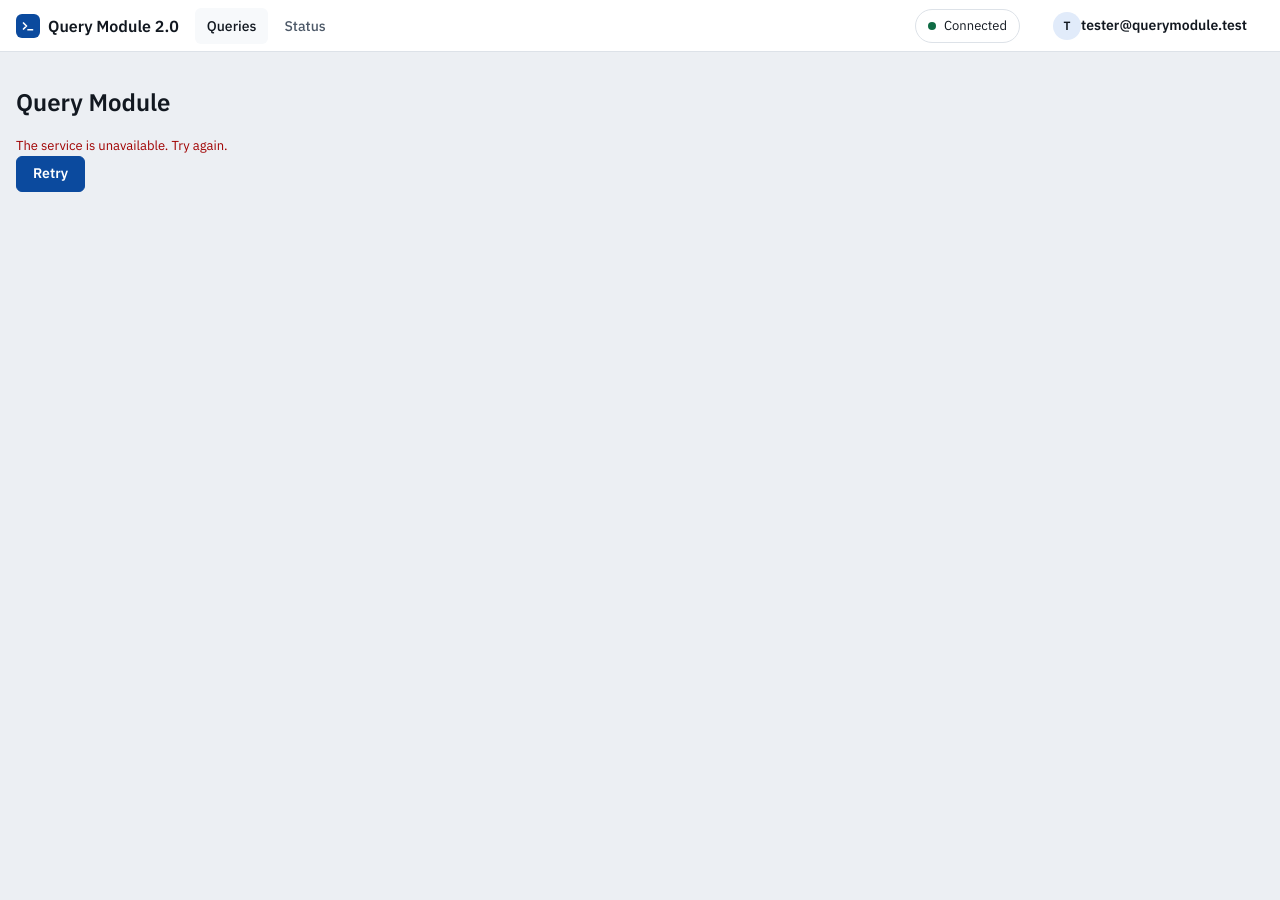
Test: BR-001 config-driven query panel (spec 6.2) › a config fetch error shows the error text, keeps the chrome usable and can retry
Expected: the text "The service is unavailable. Try again." is shown, [16, 137, 228, 154]
Expected: the button "T tester@querymodule.test" is shown, [1036, 8, 1264, 44]
Click the button "Retry" at (51, 174), box [16, 156, 85, 192]
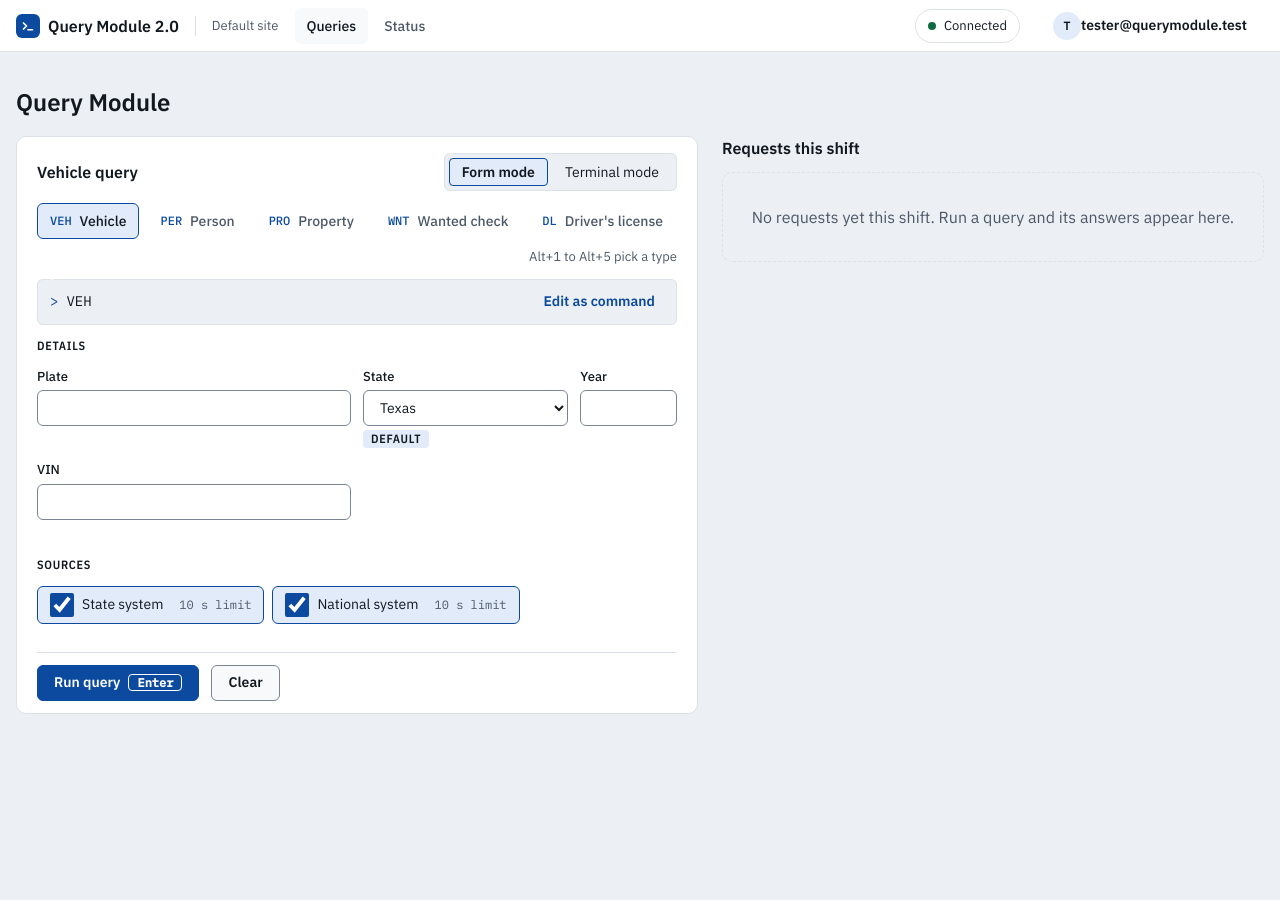
Result: the field labelled "Plate" is shown at [37, 390, 351, 426]
